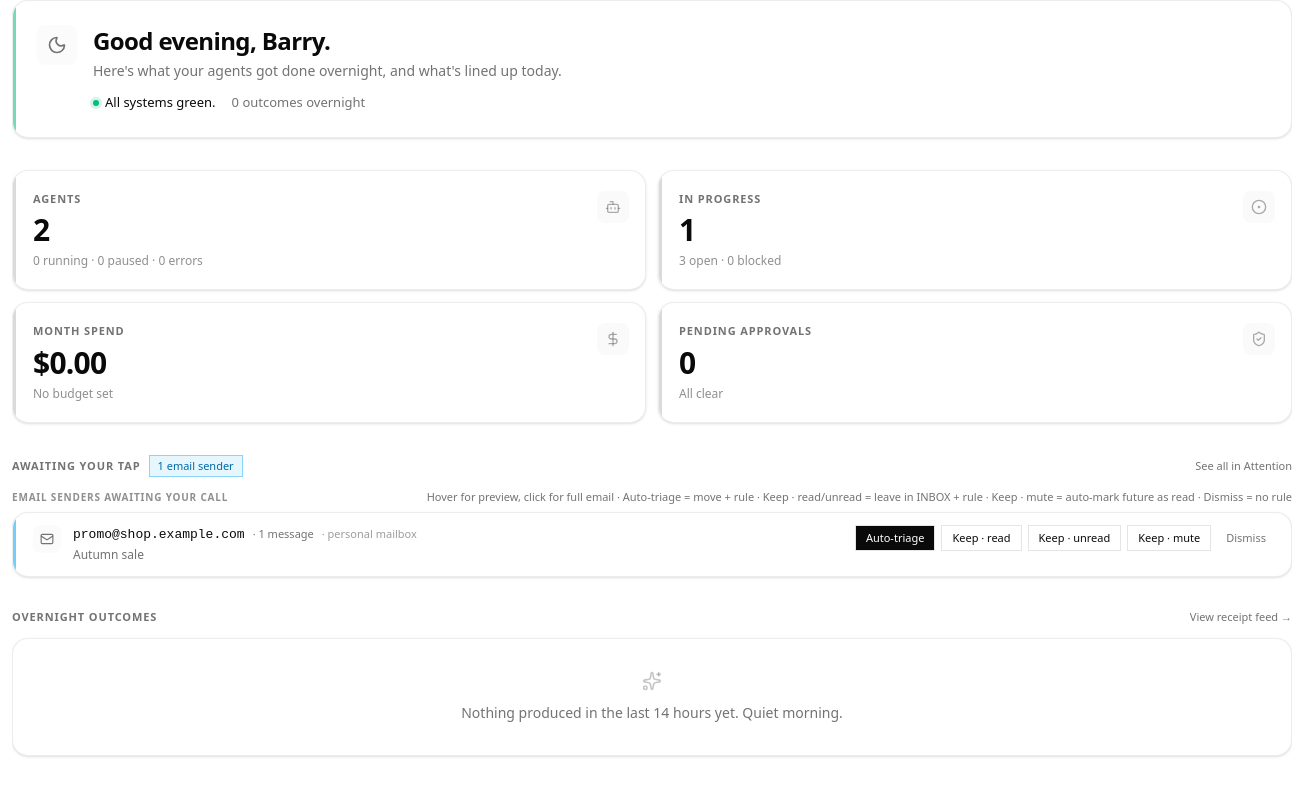
Scenario: MorningBrief › says so when the review queue entry could not be cleared
The image size is (1304, 788).
Click the button "Dismiss" at (1246, 538), box [1217,524,1275,551]
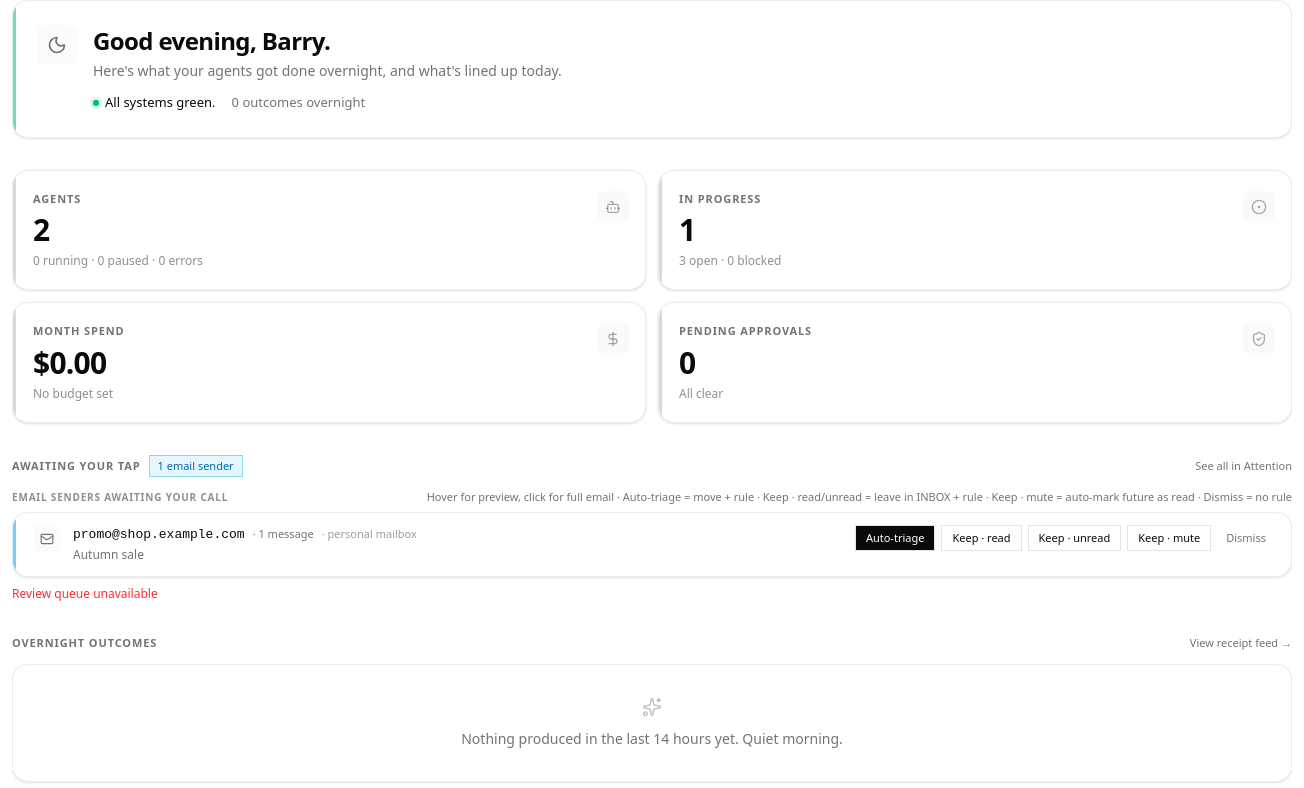
Expected: the text "Review queue unavailable" is shown, [12,585,158,602]
